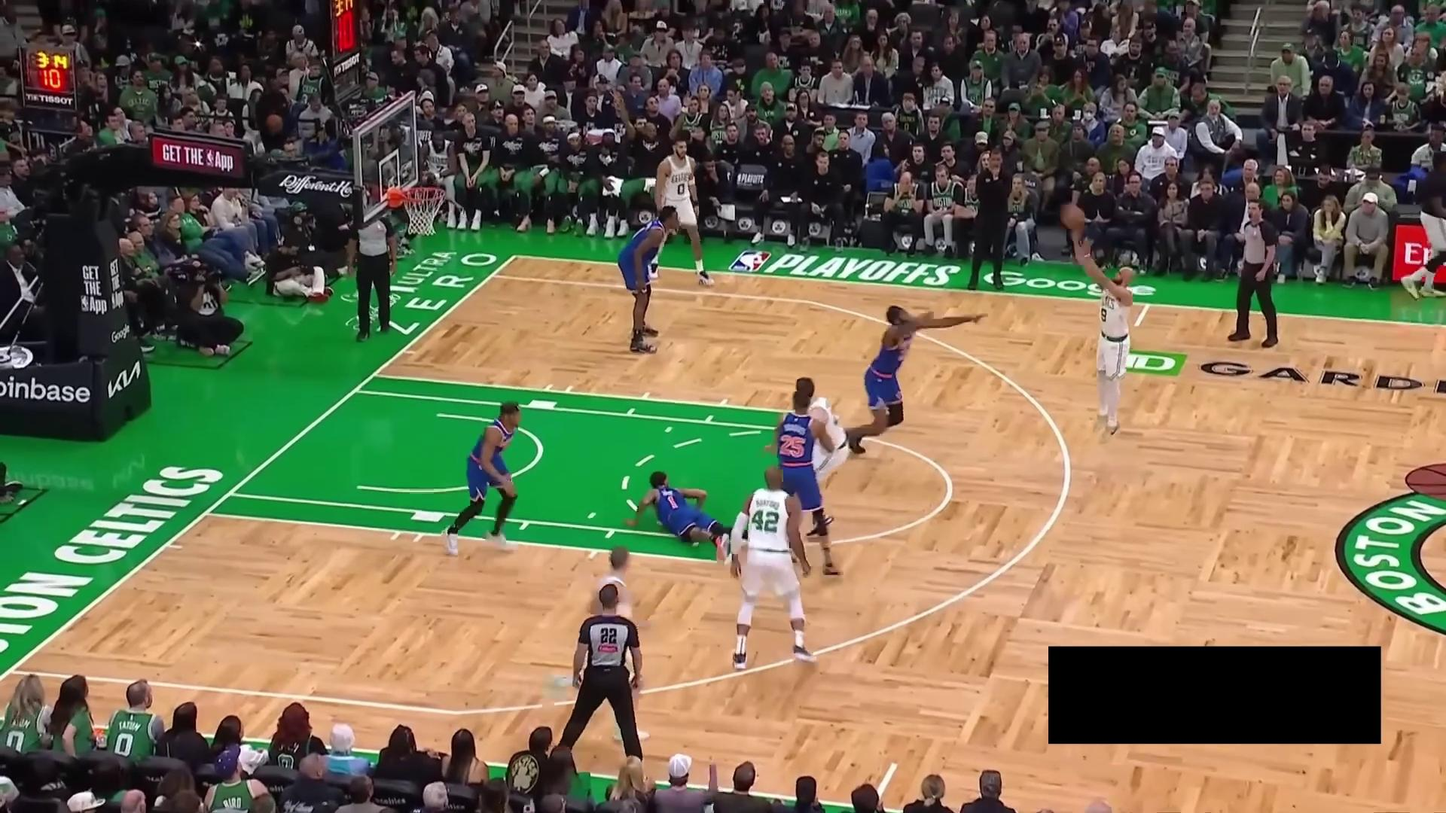ball: (1062, 201, 1088, 229)
number: (748, 506, 782, 535), (779, 434, 807, 461), (666, 493, 679, 511), (677, 181, 686, 195), (1100, 307, 1108, 322)
player: (727, 462, 824, 677), (553, 541, 654, 745), (762, 387, 847, 582), (435, 398, 532, 558), (613, 466, 746, 570), (614, 202, 683, 360), (648, 137, 718, 290), (780, 374, 853, 510)
player-jump-shot: (1057, 201, 1135, 439)
player-shot-block: (834, 295, 993, 456)
referee: (560, 584, 650, 777), (1227, 195, 1284, 348), (346, 208, 394, 341)
rim: (399, 182, 449, 208)
